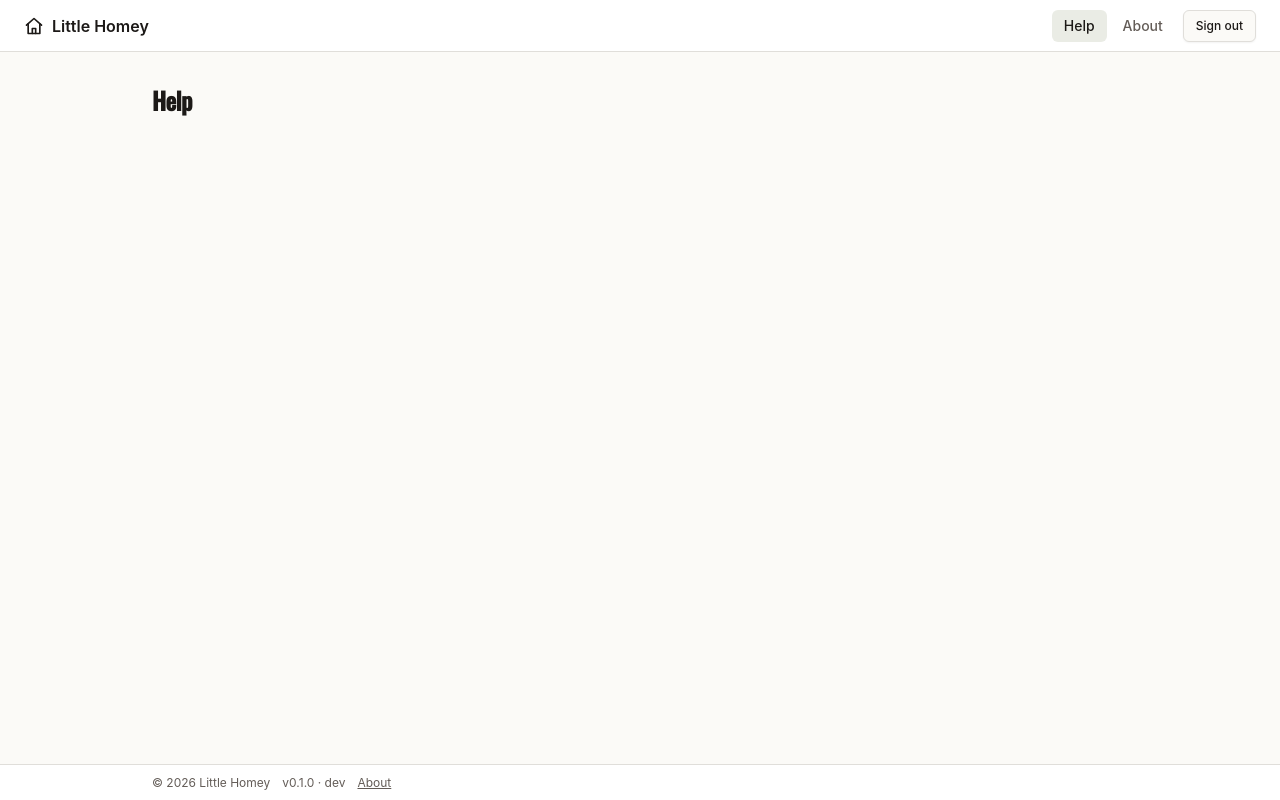
it: About opens from the header and explains the app in plain words (About from the header)
Click the 1st link "About" at (1143, 25), box [1123,16,1163,34]
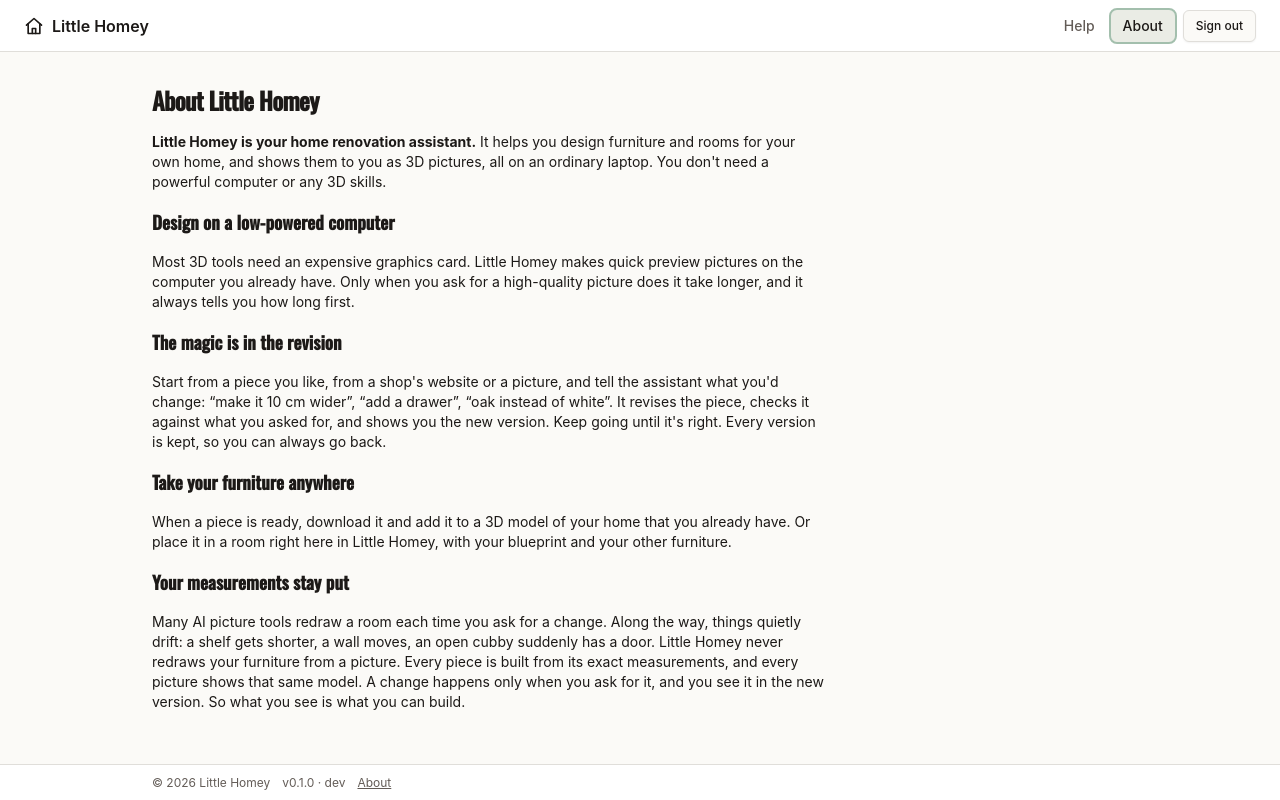
Now the element "About Little Homey" shows "ordinary laptop", box [152,133,795,190]
Now the element "About Little Homey" shows "The magic is in the revision", box [152,329,342,355]
